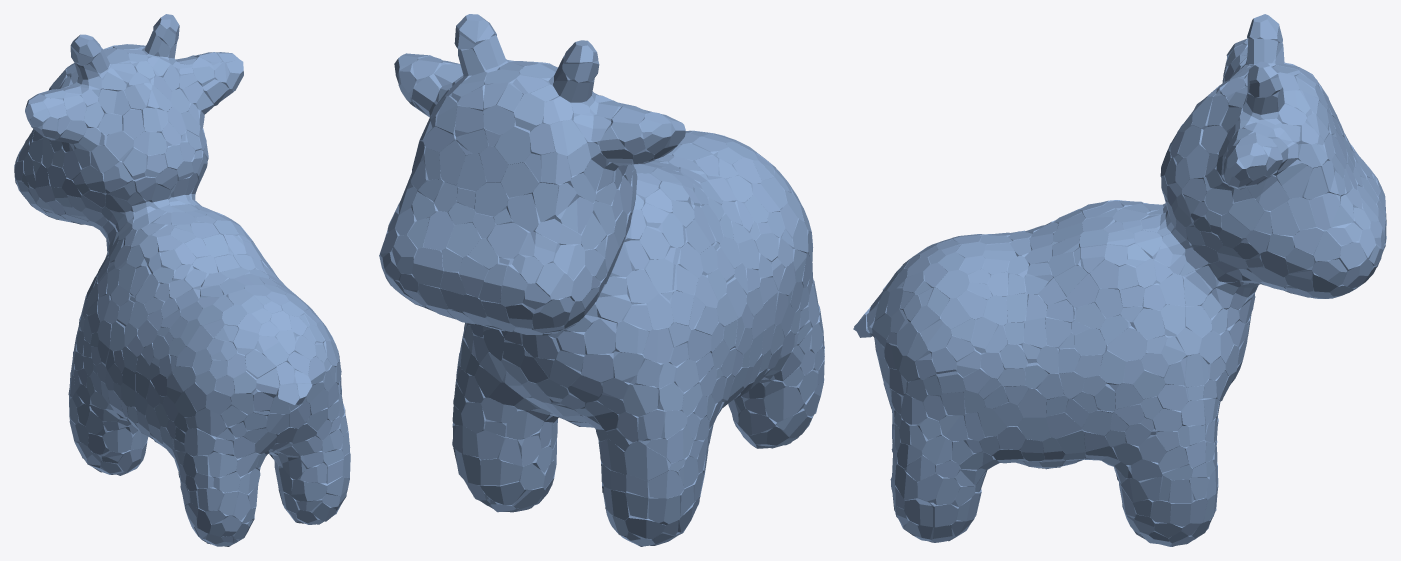
File: cow_clean_voromesh.glb
3 views of the same model, side by side, from view 1: azimuth 30°, elevation 25°; view 2: azimuth 150°, elevation 25°; view 3: azimuth 270°, elevation 25° (orthographic). The views are drawn at different scales.
Parts seen in each view (by area): view 1: cow_clean_voromesh.obj; view 2: cow_clean_voromesh.obj; view 3: cow_clean_voromesh.obj.
Boxes of the visible parts, x1=… form: cow_clean_voromesh.obj: x1=14, y1=14, x2=350, y2=546; cow_clean_voromesh.obj: x1=379, y1=14, x2=824, y2=546; cow_clean_voromesh.obj: x1=853, y1=14, x2=1386, y2=546.
Bounding box in the file's own units: 0.5498 × 0.9844 × 1.
